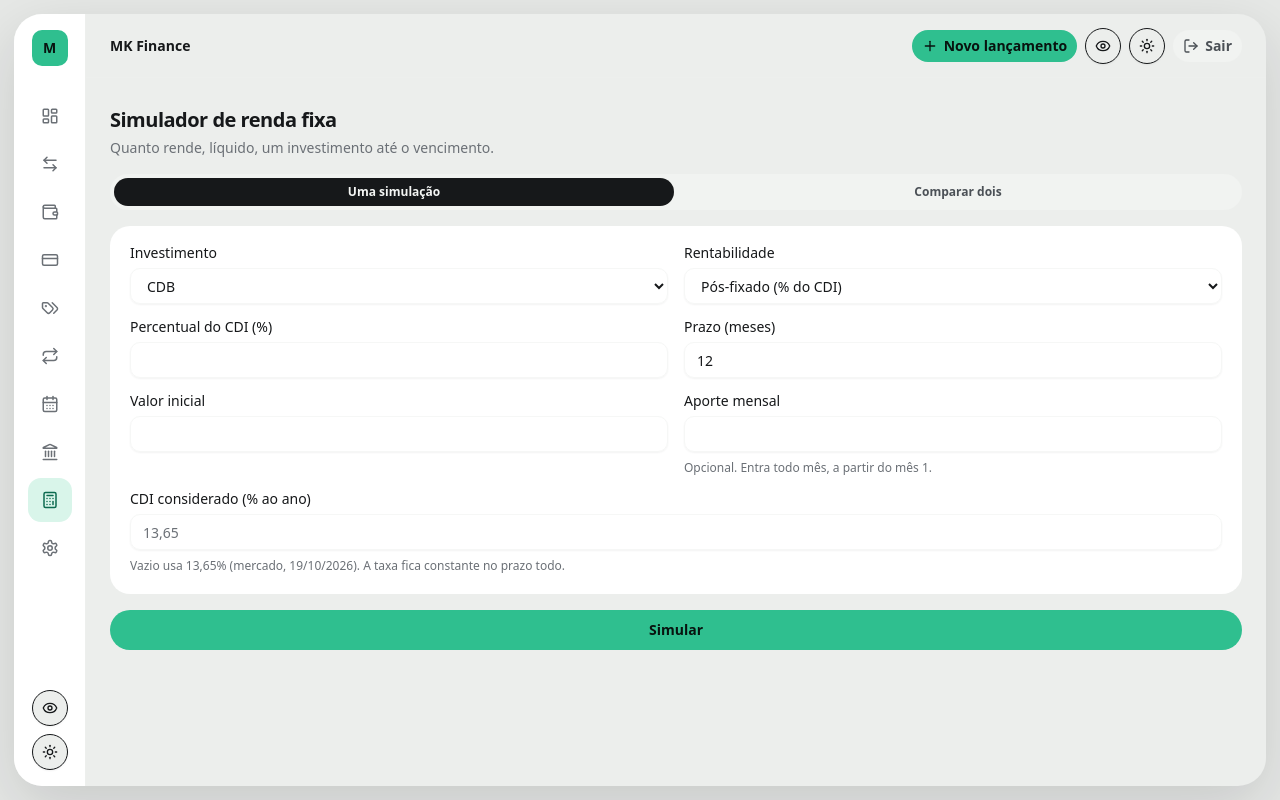
it: SimulatorPage › choosing Tesouro Selic narrows the indexer and asks for the Selic premise
Select "Tesouro Selic" in the dropdown labelled "Investimento". click: (399, 286)
box: [130,268,668,304]
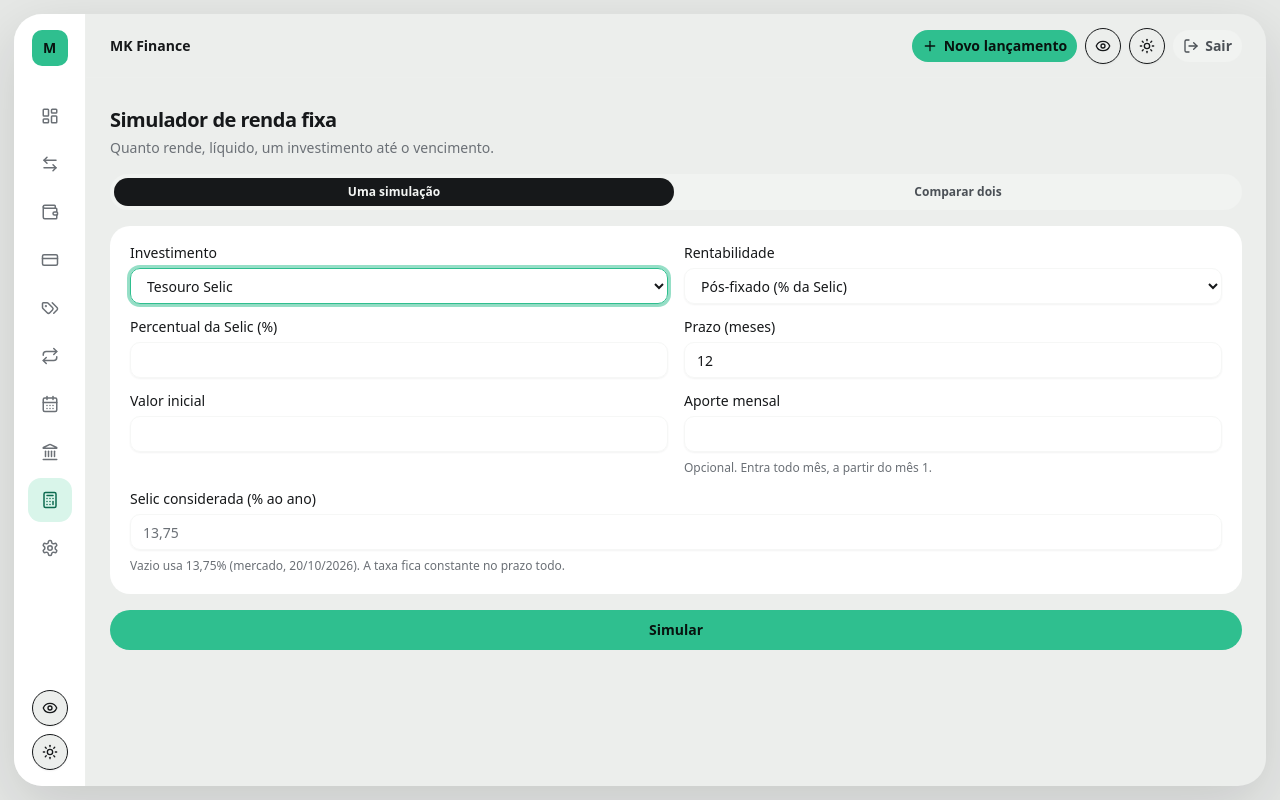
Expected: the field labelled "Selic considerada (% ao ano)" is shown, [130,514,1222,550]
Now the dropdown labelled "Rentabilidade" shows "Pós-fixado (% da Selic)", box [684,268,1222,304]
Now the label labelled "CDI considerado (% ao ano)" is gone
